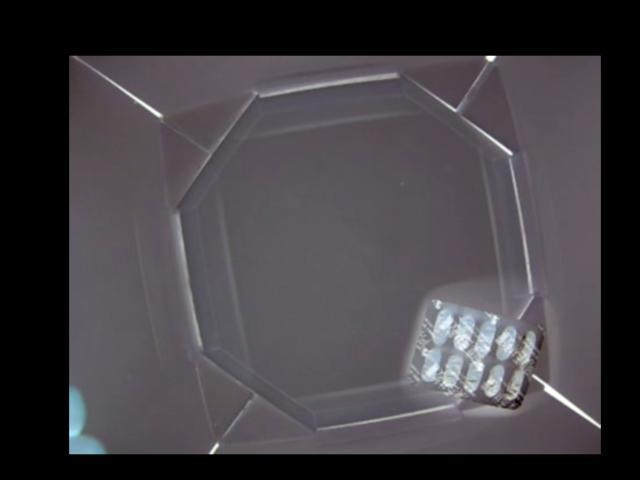Medicine: (403, 297, 542, 411)
